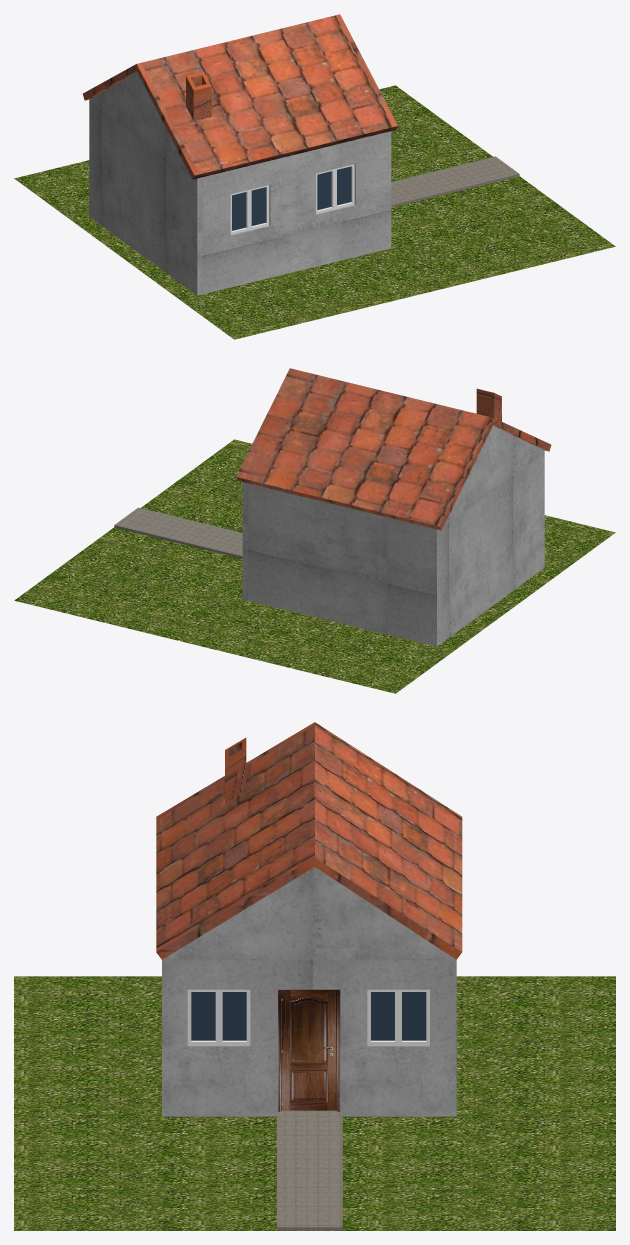
File: house2.fbx
3 renders of one model, top to bottom at view 1: azimuth 30°, elevation 25°; view 2: azimuth 150°, elevation 25°; view 3: azimuth 270°, elevation 25°, orthographic. The views are drawn at different scales.
Visible parts, largest first — view 1: house2; view 2: house2; view 3: house2.
Part boxes in pixels (x1,y1,x2,y2): house2: (14,14,615,339); house2: (14,368,615,693); house2: (14,722,615,1230).
Bounding box in the file's own units: 200 × 96.66 × 200.
